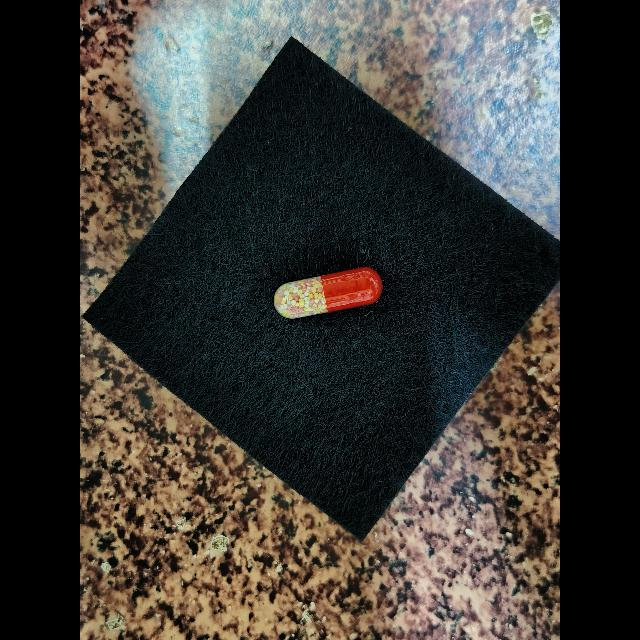Intact Capsule: (274, 268, 382, 319)
